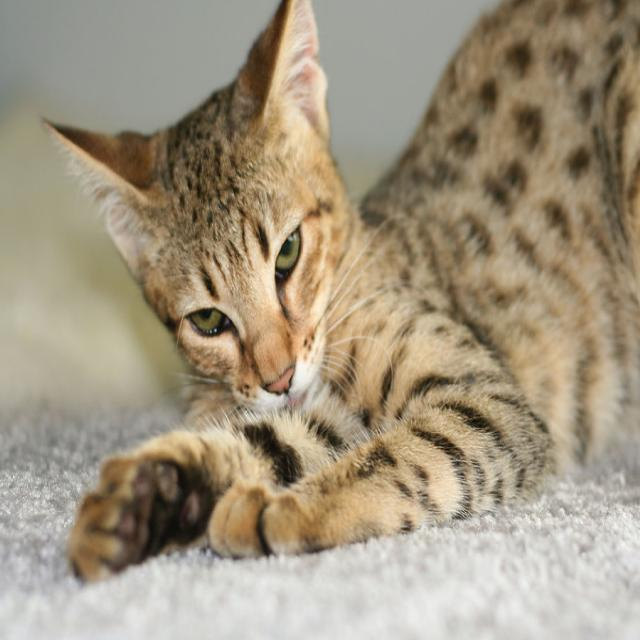Savannah: (34, 0, 640, 590)
